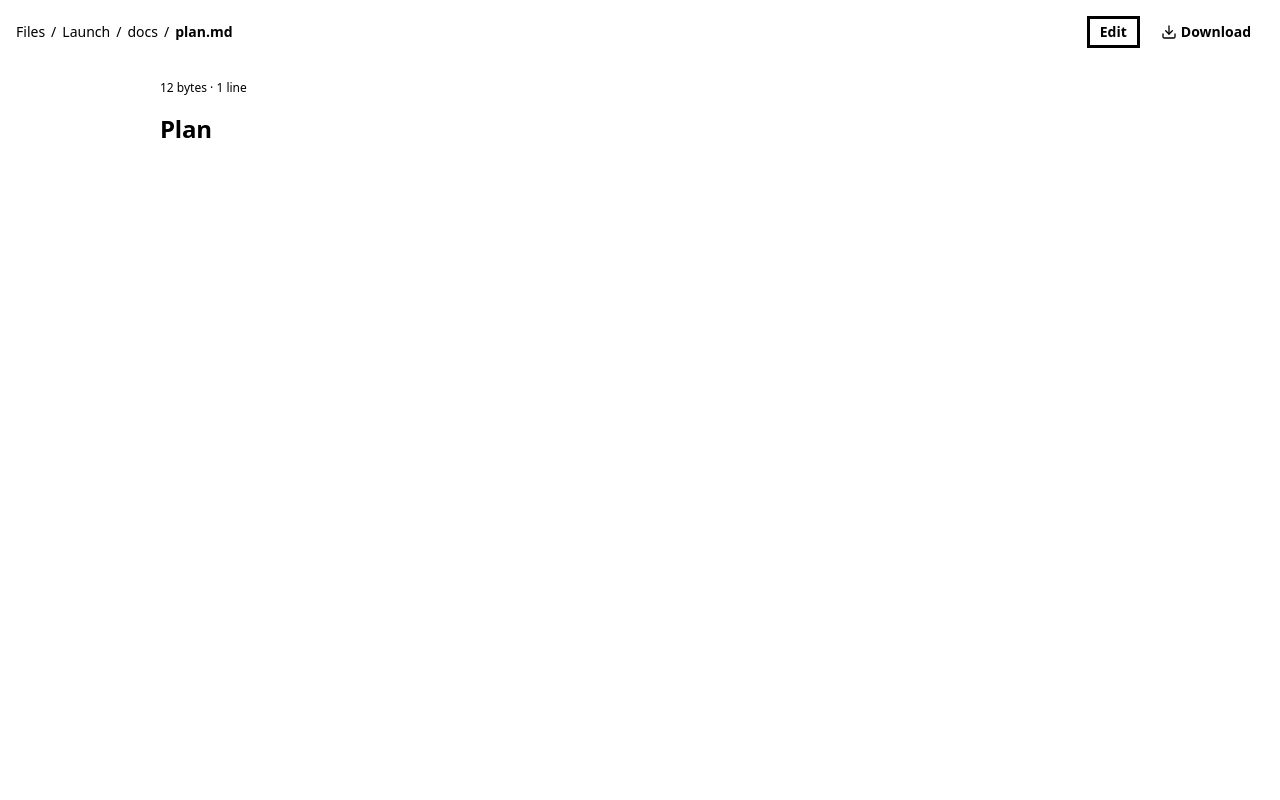
Scenario: changing a file › says why a save was refused, and keeps what was written
The image size is (1280, 800).
Click the button "Edit" at coordinates (1113, 32), box [1087, 16, 1140, 48]
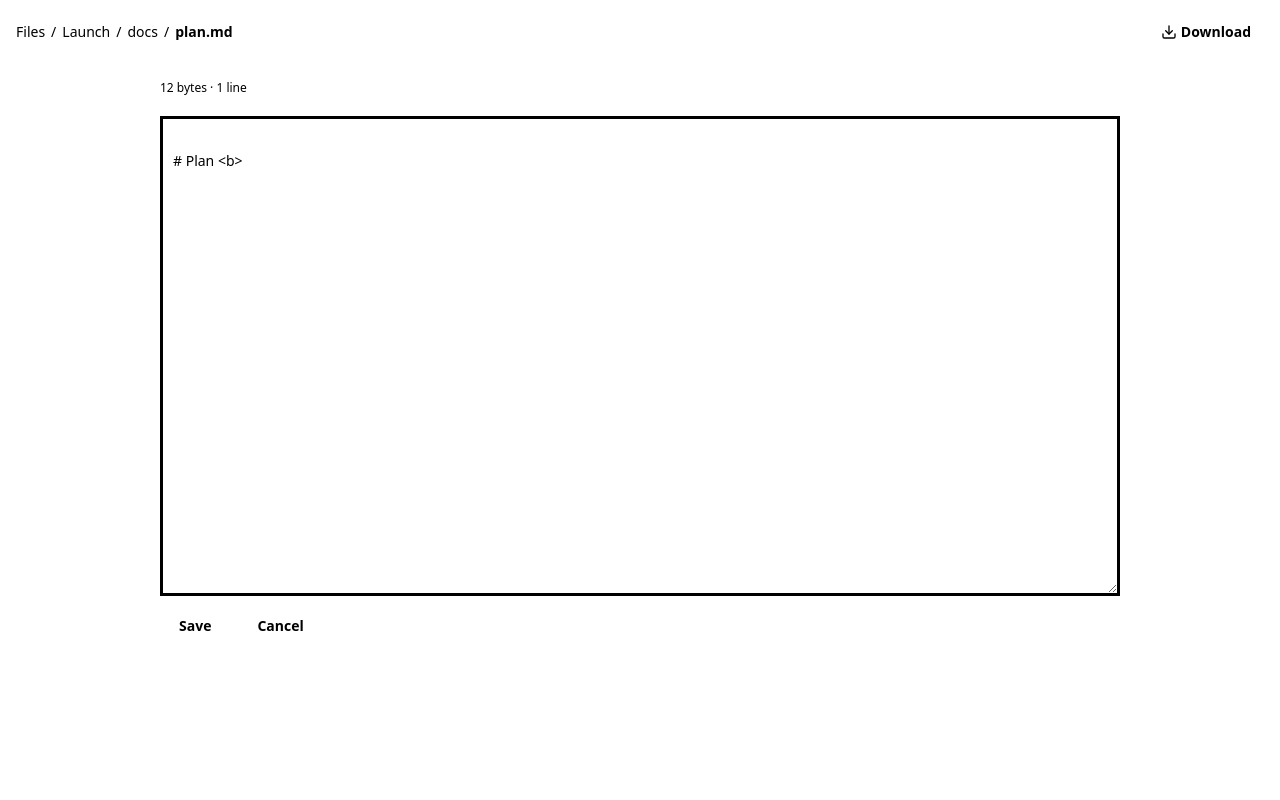
Replace the text in the text box with test id "file-text" with "mine" at coordinates (640, 356), box [160, 116, 1120, 596]
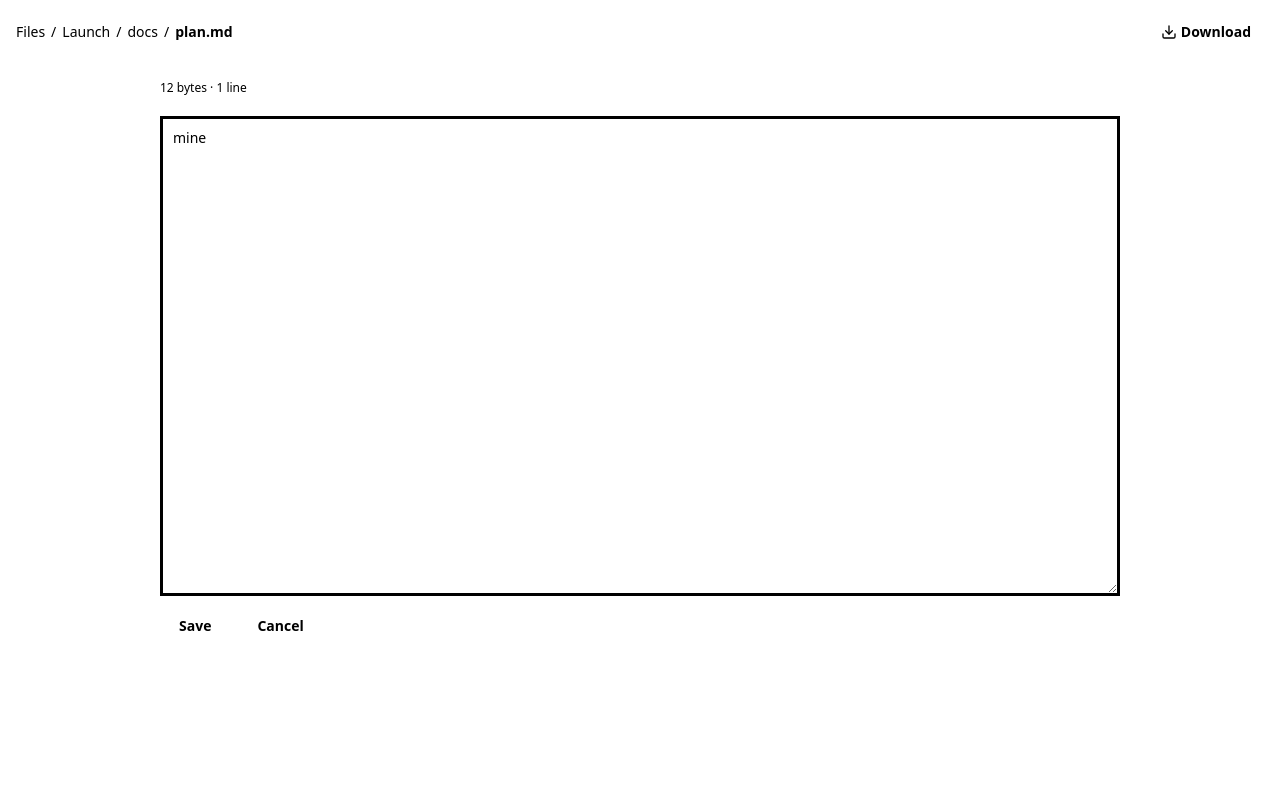
Click the button "Save" at coordinates (195, 626), box [160, 608, 230, 644]
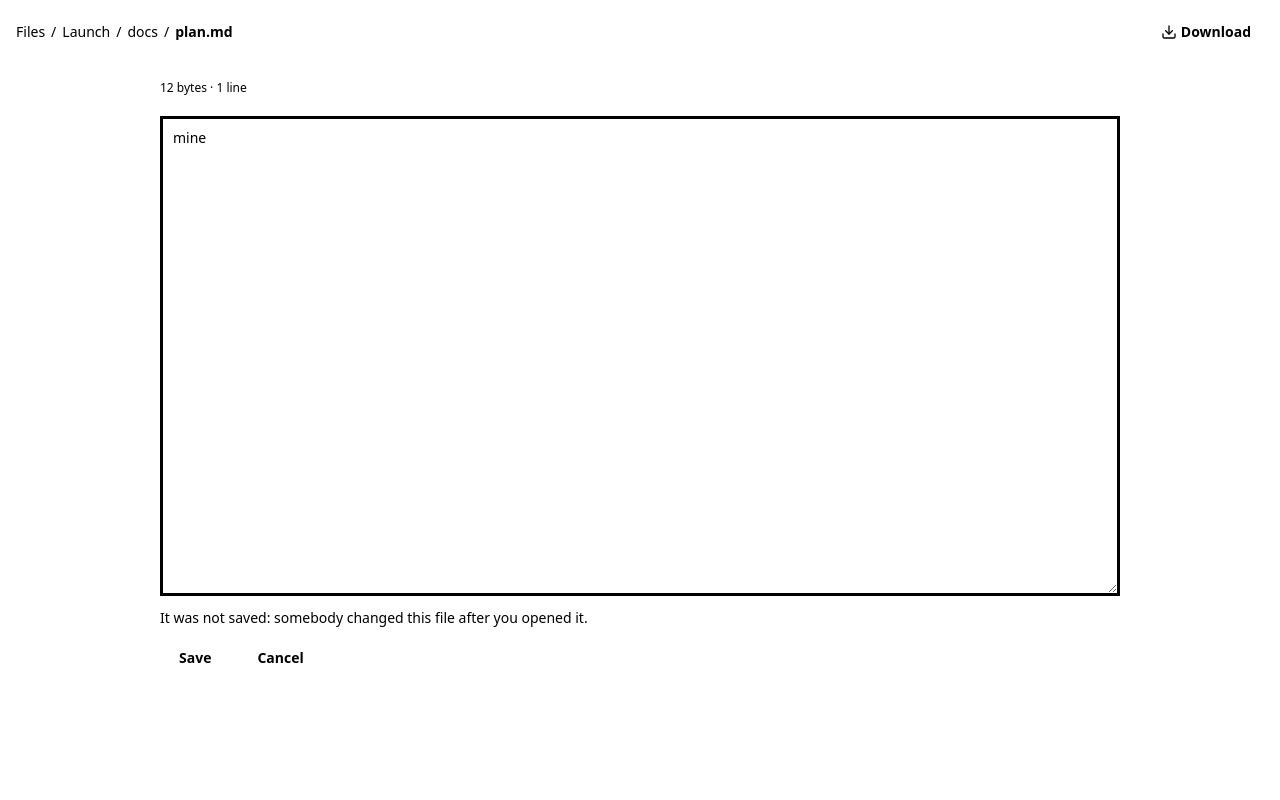
Now the message reads "It was not saved: somebody changed this file after you opened it.", box [160, 608, 588, 627]
